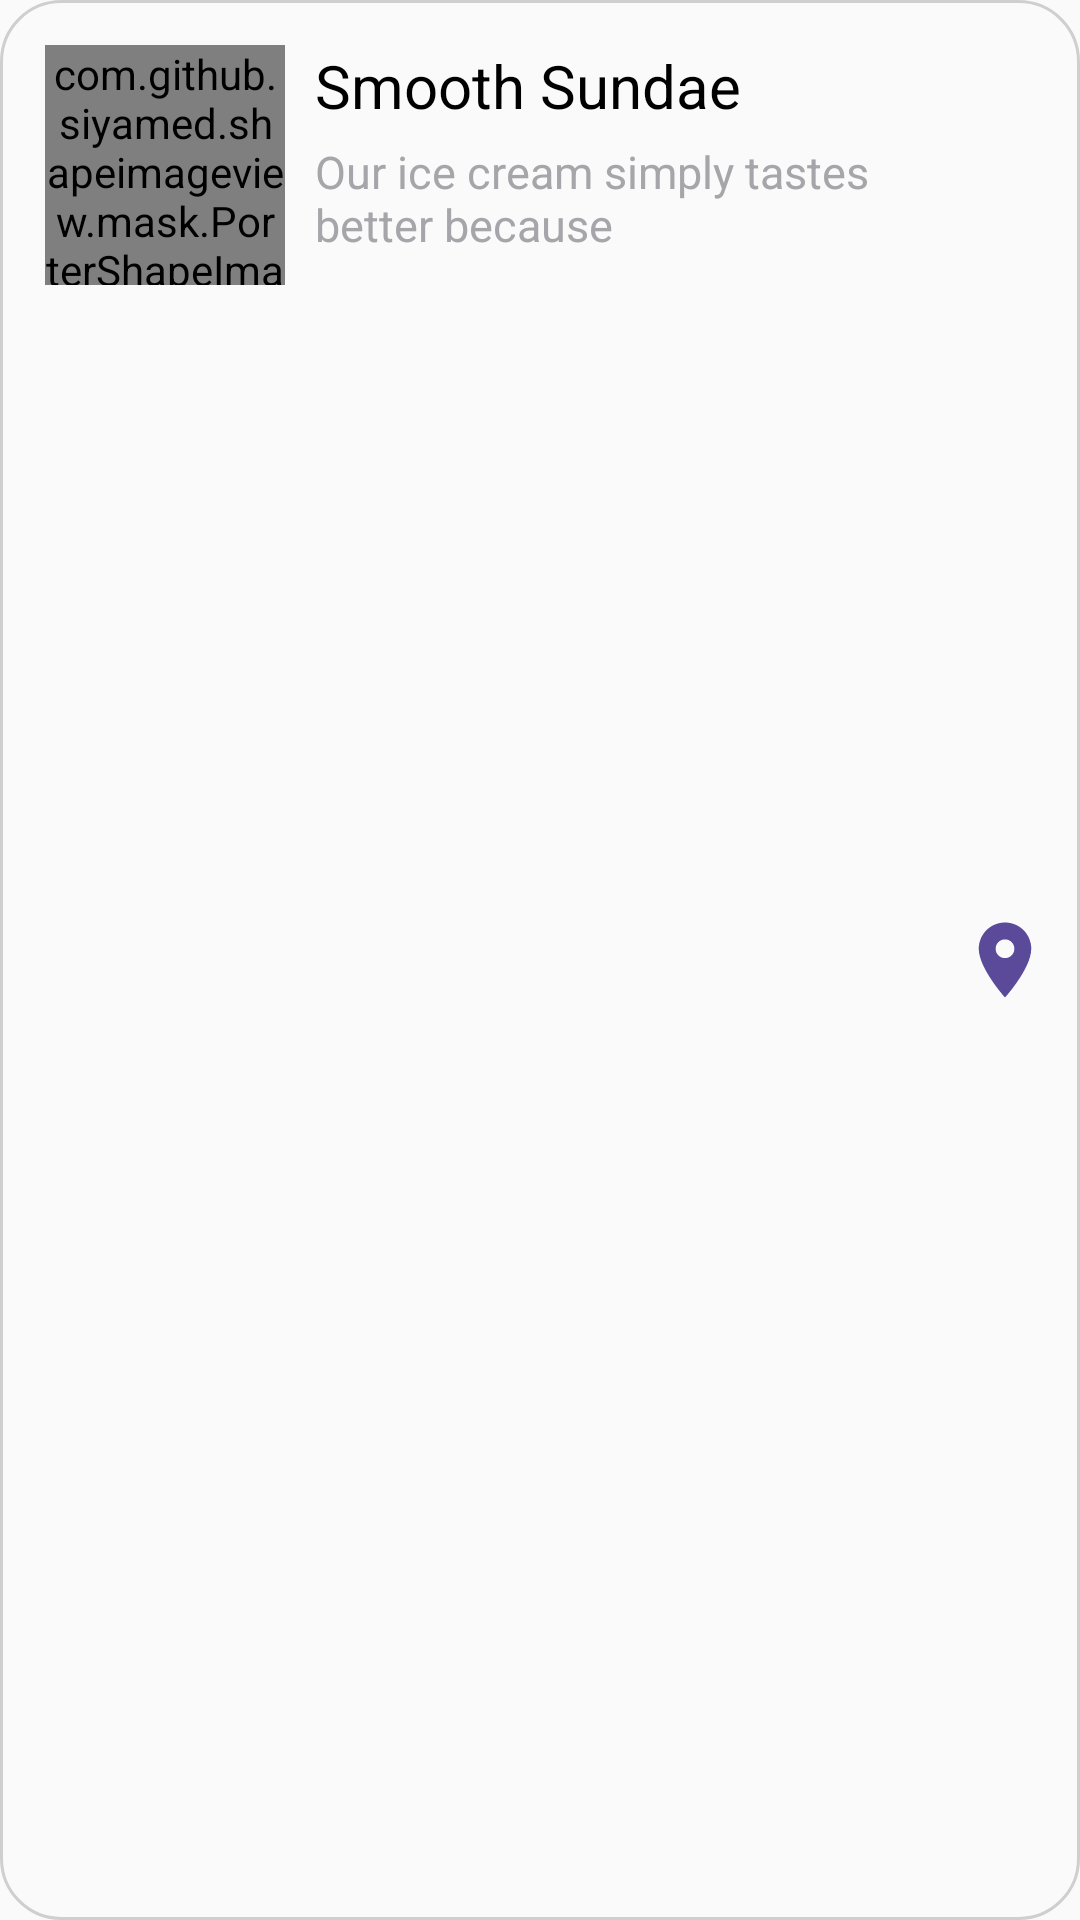

Named icons in this screenshot (1080 x 1920) and their centers, (x=x, y=y):
location on: (x=1005, y=959)
